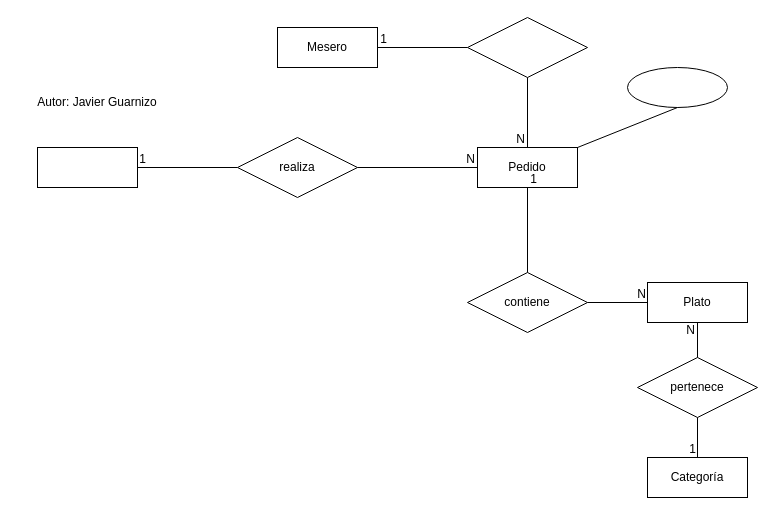
This 775x515 diagram has some shape labels left out. The centre of each missing label's shape, as x and y in pixels:
"atiende" goes at (x=527, y=47).
"Cliente" goes at (x=87, y=167).
"precioUnitario" goes at (x=677, y=87).
